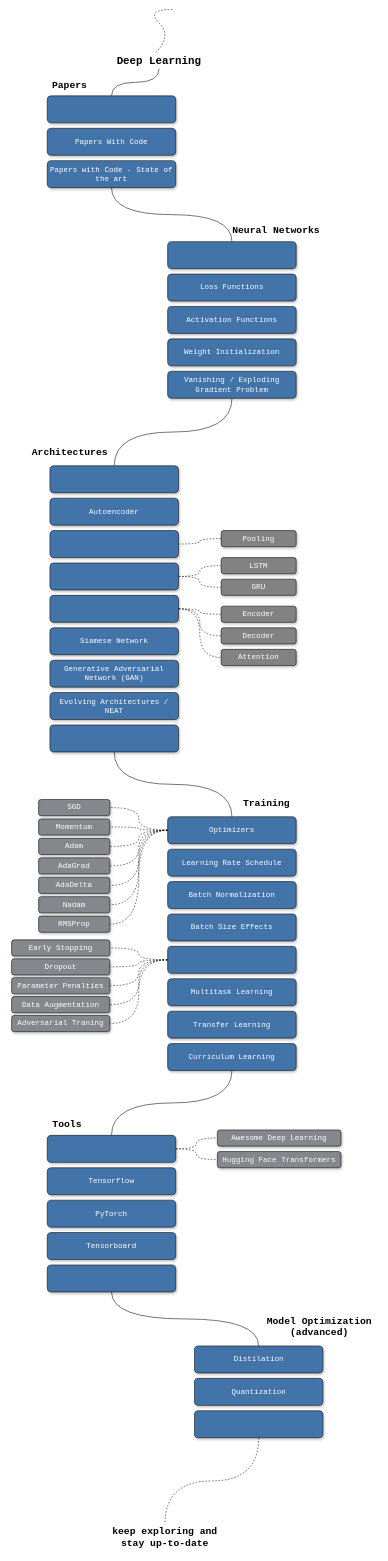
This 388x1561 diagram has some shape labels left out. Each missing label, with the centre of its shape:
"Convolutional Neural Network (CNN)" goes at point (114, 544).
"Deep Learning Papers Reading Roadmap" goes at point (112, 110).
"Feedforward neural network" goes at point (114, 480).
"Important Libraries" goes at point (112, 1149).
"MLFlow" goes at point (112, 1279).
"Neural Architecture Search (NAS)" goes at point (259, 1425).
"Recurrent Neural Network (RNN)" goes at point (114, 577).
"Regularization" goes at point (232, 960).
"Residual Connections" goes at point (114, 739).
"Transformer" goes at point (114, 609).
"Understanding Neural Networks" goes at point (232, 255).
